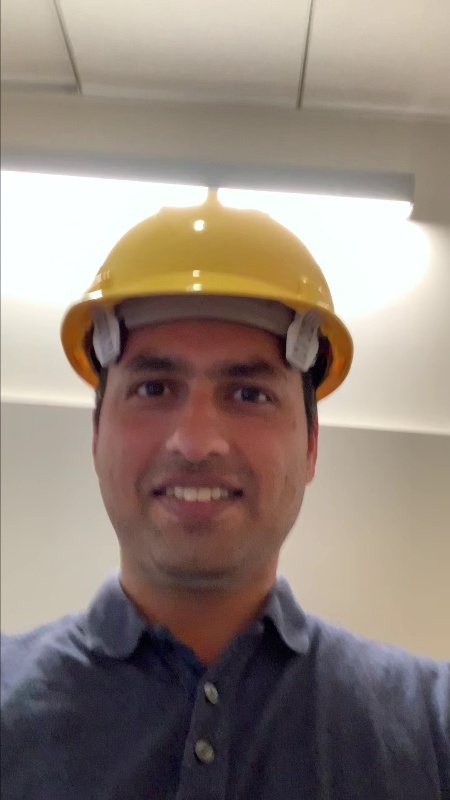helmet: (50, 198, 358, 375)
